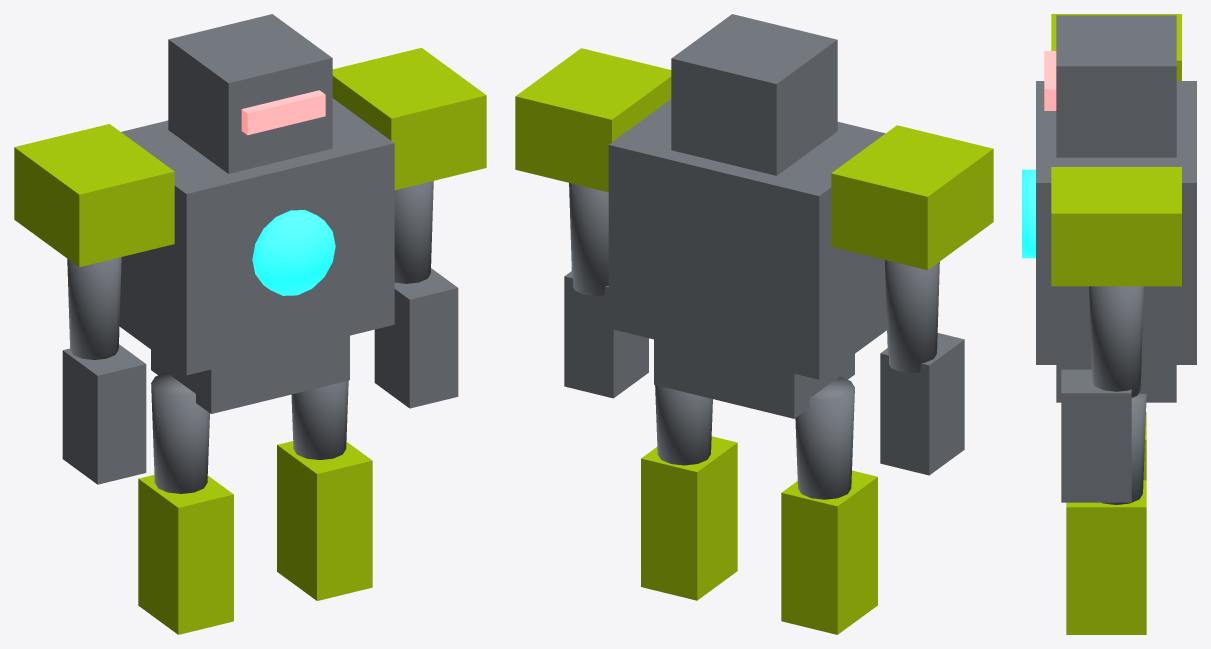
3 renders of one model, left to right at view 1: azimuth 30°, elevation 25°; view 2: azimuth 150°, elevation 25°; view 3: azimuth 270°, elevation 25°, orthographic.
Visible parts, largest first — view 1: Generated3DMesh; view 2: Generated3DMesh; view 3: Generated3DMesh.
Boxes of the visible parts, box(x1,y1,x2,y2) form: Generated3DMesh: box(14, 14, 486, 634); Generated3DMesh: box(515, 14, 993, 634); Generated3DMesh: box(1022, 14, 1196, 634).
Size of the model in its own units: 2.35 by 3 by 0.87.
